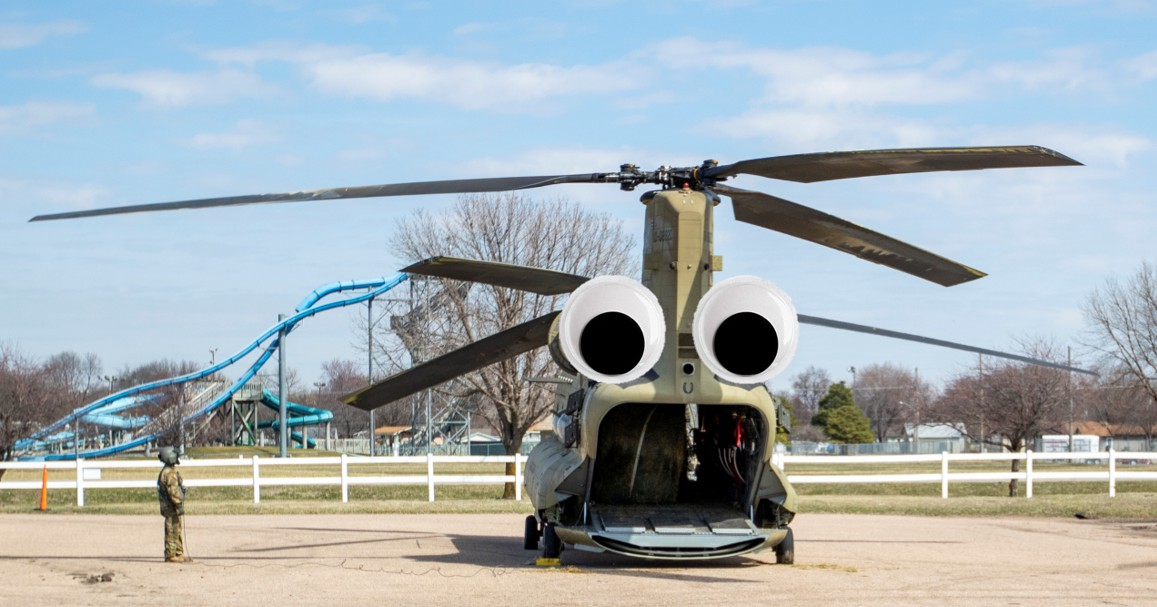chinook: (489, 164, 872, 586)
